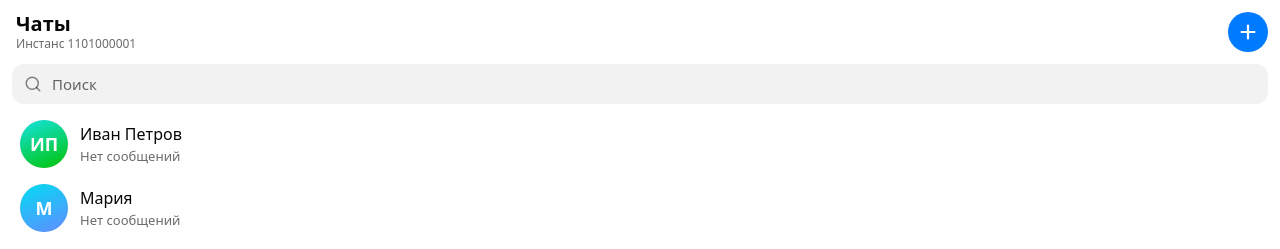
Test: Sidebar: поиск по чатам › находит чат по номеру телефона в произвольном формате
Step 1. Type "8 (999) 123" into the search field named "Поиск по чатам" → (640, 84), box [12, 64, 1268, 104]
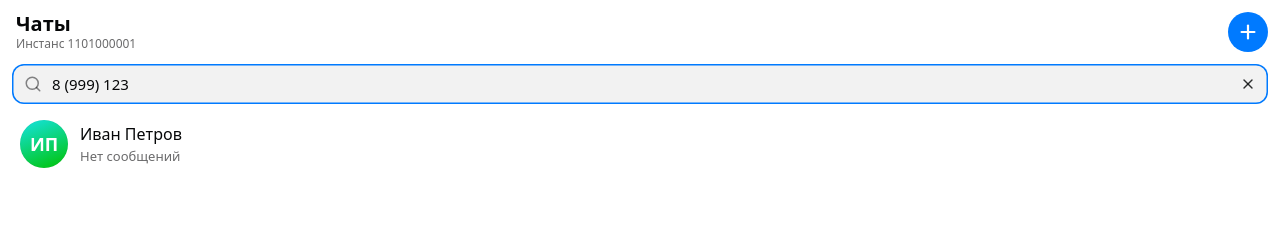
Check: the text "Иван Петров" is shown, box [80, 124, 182, 144]
Check: the button "Мария" is gone
